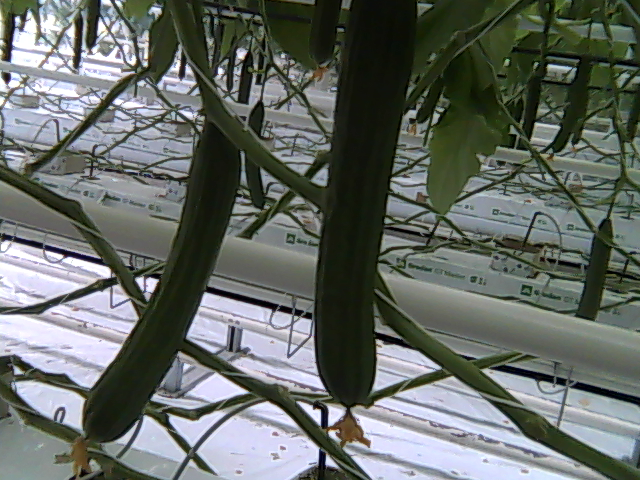concombre: (46, 120, 243, 469), (312, 1, 421, 450)
